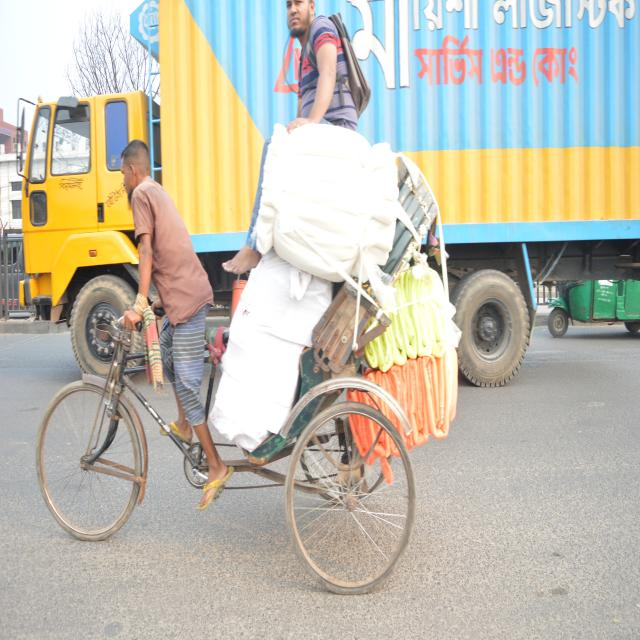truck: (20, 0, 640, 417)
